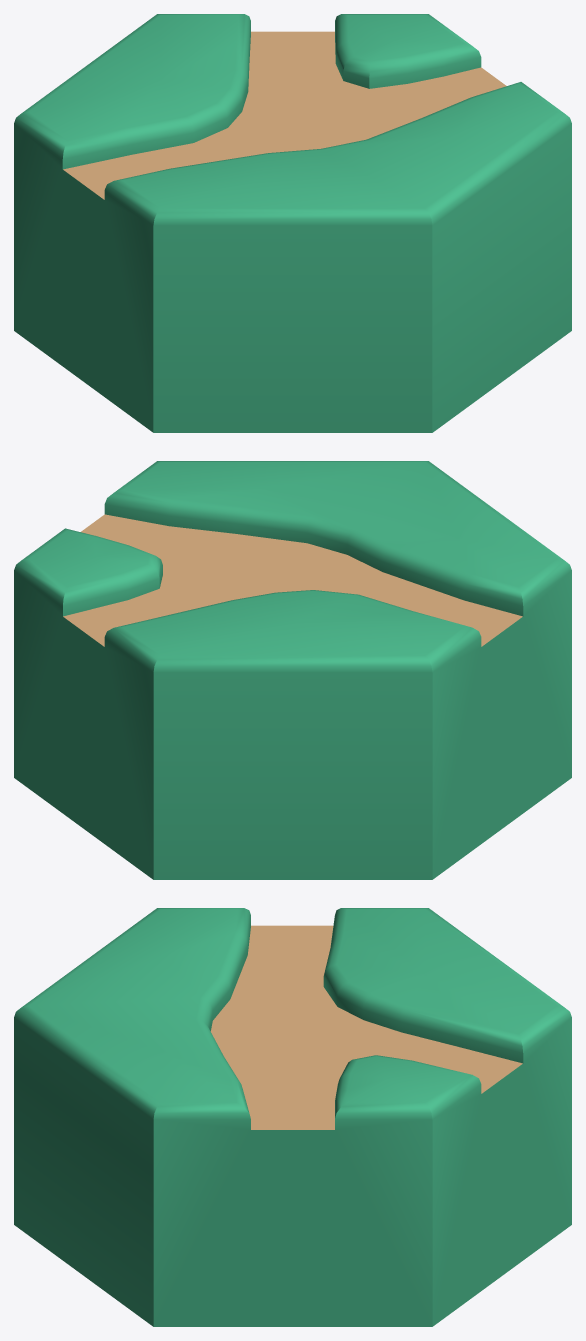
File: kaykit-hex-forest-roadf.glb
The picture shows the model from 3 angles, top to bottom: view 1: azimuth 30°, elevation 25°; view 2: azimuth 150°, elevation 25°; view 3: azimuth 270°, elevation 25°; orthographic projection.
Visible parts, largest first — view 1: hex_forest_roadF; view 2: hex_forest_roadF; view 3: hex_forest_roadF.
Part boxes in pixels (bbox=[...]): hex_forest_roadF: bbox=[14, 14, 571, 432]; hex_forest_roadF: bbox=[14, 461, 571, 879]; hex_forest_roadF: bbox=[14, 908, 571, 1326].
Size of the model in its own units: 2 by 1 by 2.31.
